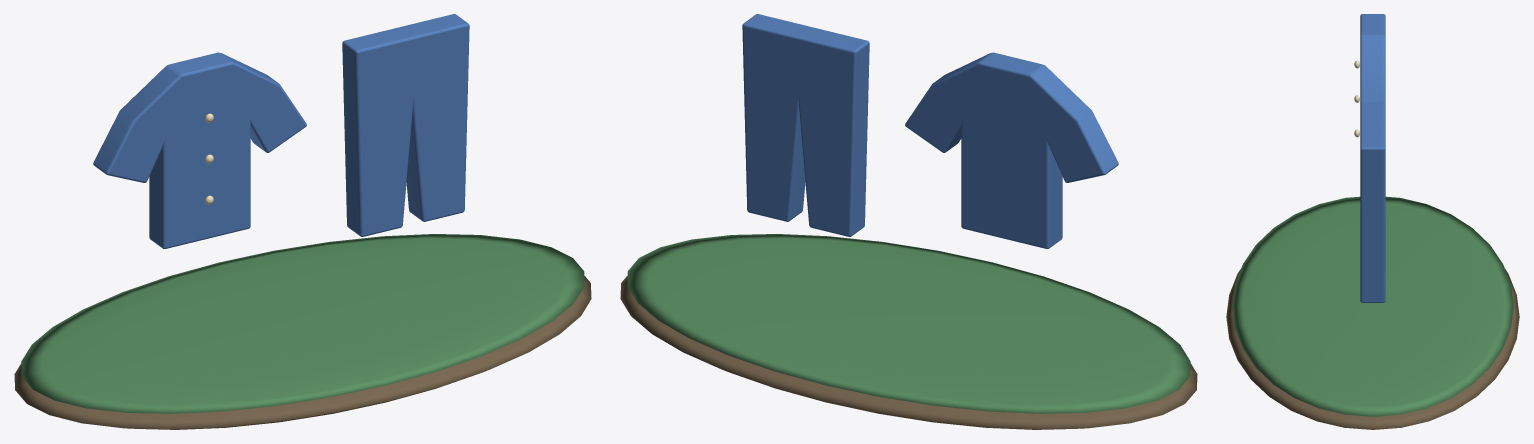
Rendered from wardrobe.glb.
The picture shows the model from 3 angles, left to right: view 1: azimuth 30°, elevation 25°; view 2: azimuth 150°, elevation 25°; view 3: azimuth 270°, elevation 25°; orthographic projection. The views are drawn at different scales.
Visible parts, largest first — view 1: wardrobe_surface_01, wardrobe_surface_02, wardrobe_surface_00; view 2: wardrobe_surface_01, wardrobe_surface_02, wardrobe_surface_00; view 3: wardrobe_surface_01, wardrobe_surface_02, wardrobe_surface_00.
Part boxes in pixels (<box>): wardrobe_surface_01: <box>21,234,584,413</box>; wardrobe_surface_02: <box>93,14,469,248</box>; wardrobe_surface_00: <box>14,276,591,429</box>; wardrobe_surface_01: <box>627,234,1190,413</box>; wardrobe_surface_02: <box>742,14,1118,248</box>; wardrobe_surface_00: <box>620,276,1197,429</box>; wardrobe_surface_01: <box>1232,196,1513,416</box>; wardrobe_surface_02: <box>1360,14,1385,302</box>; wardrobe_surface_00: <box>1226,269,1519,429</box>.
Size of the model in its own units: 4.56 by 2.49 by 2.5.
